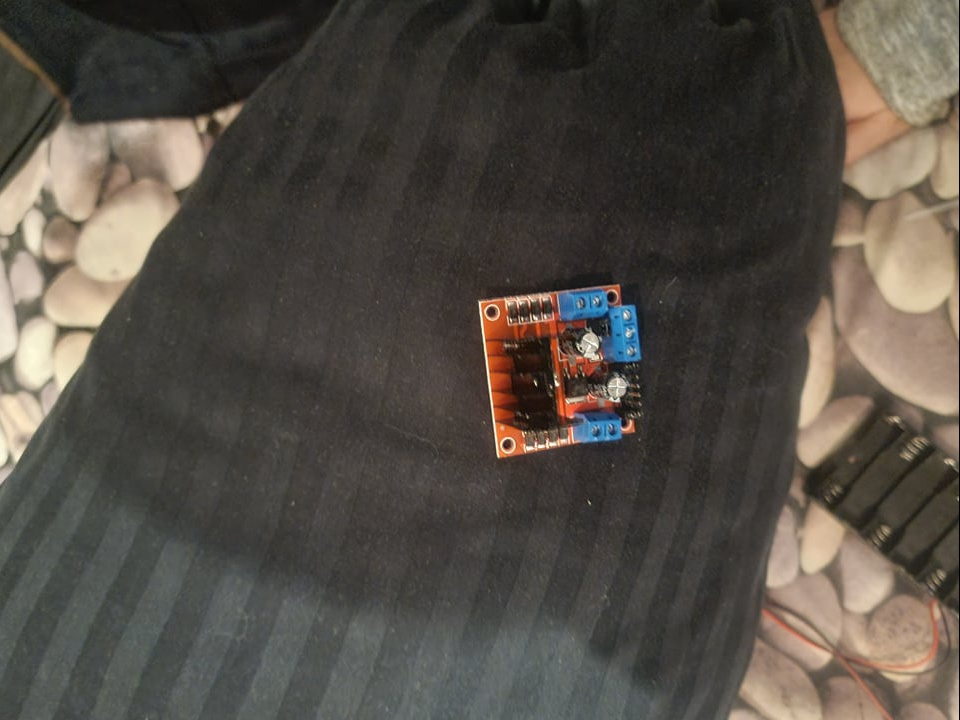MOTOR: (476, 281, 648, 459)
